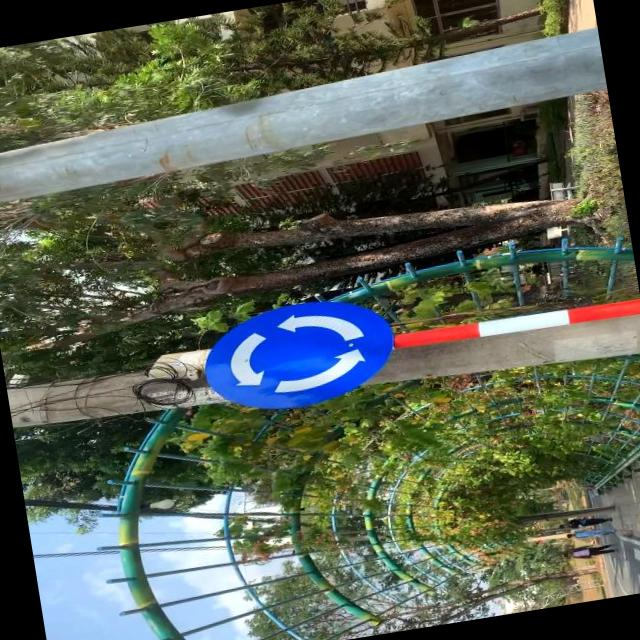R-303: (198, 292, 400, 416)
